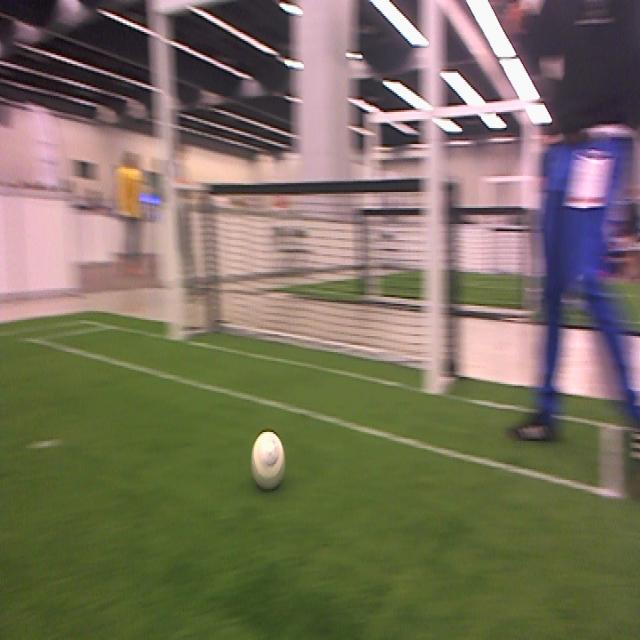ball: (251, 432, 282, 489)
goalpost: (146, 2, 190, 340), (420, 2, 447, 394)
